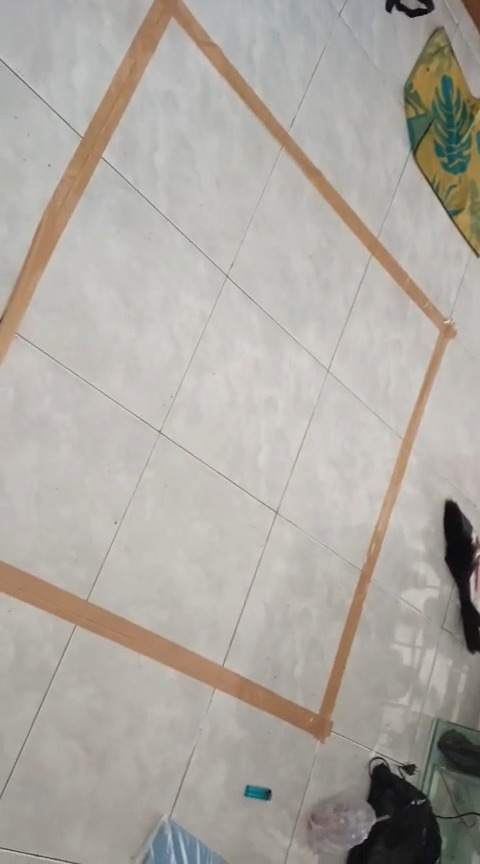floor marking: (0, 0, 455, 740)
